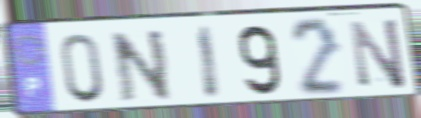0: (59, 32, 106, 106)
2: (288, 15, 352, 101)
9: (237, 23, 283, 97)
I: (195, 23, 223, 102)
N: (108, 26, 175, 105), (347, 15, 409, 91)
